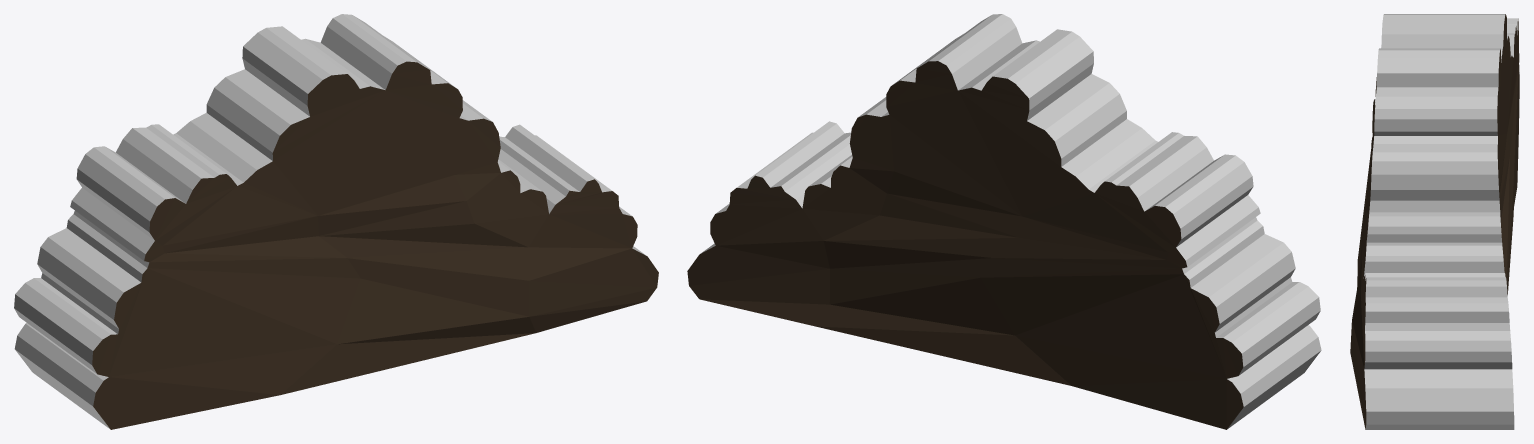
The model's file is OC_FIREWOOD_V3.OBJ.
3 renders of one model, left to right at view 1: azimuth 30°, elevation 25°; view 2: azimuth 150°, elevation 25°; view 3: azimuth 270°, elevation 25°, orthographic. The views are drawn at different scales.
Visible parts, largest first — view 1: OC_FIREWOOD_V3; view 2: OC_FIREWOOD_V3; view 3: OC_FIREWOOD_V3.
Boxes of the visible parts, x1=… form: OC_FIREWOOD_V3: x1=14, y1=14, x2=658, y2=429; OC_FIREWOOD_V3: x1=687, y1=14, x2=1321, y2=429; OC_FIREWOOD_V3: x1=1350, y1=14, x2=1519, y2=429.
Bounding box in the file's own units: 3.39 × 1.69 × 0.9419.
